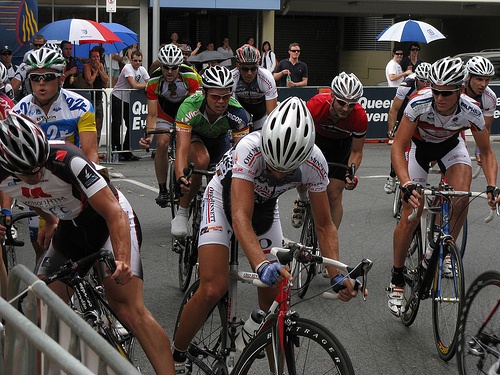helmet: (264, 103, 317, 177), (1, 113, 48, 174), (429, 58, 466, 86), (22, 46, 65, 70), (331, 73, 364, 103), (235, 44, 264, 66), (201, 67, 235, 85), (158, 48, 184, 65)
